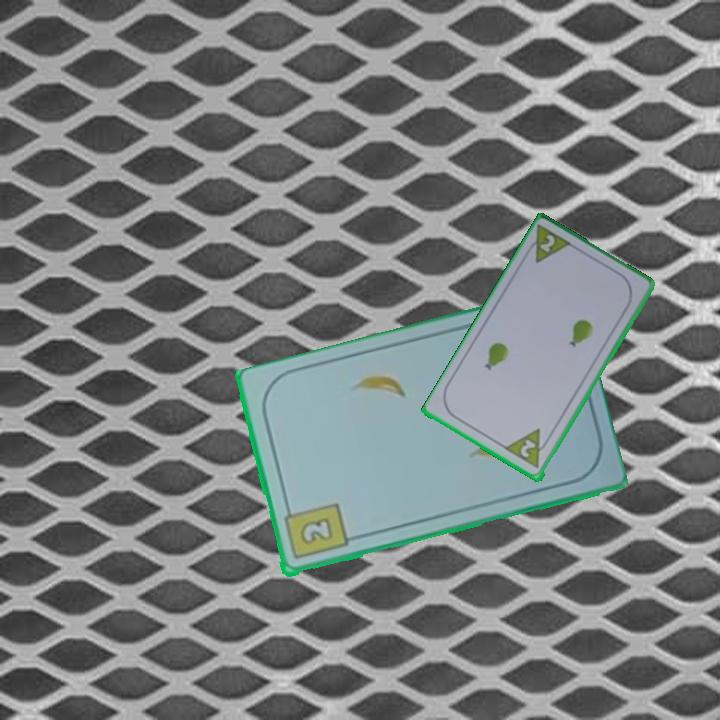2b: (280, 500, 350, 563)
2p: (517, 436, 539, 461), (536, 231, 558, 256)
